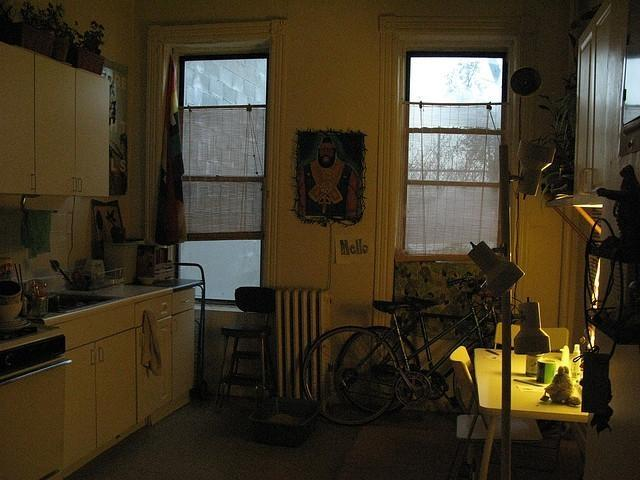bicycle: (303, 277, 497, 430)
